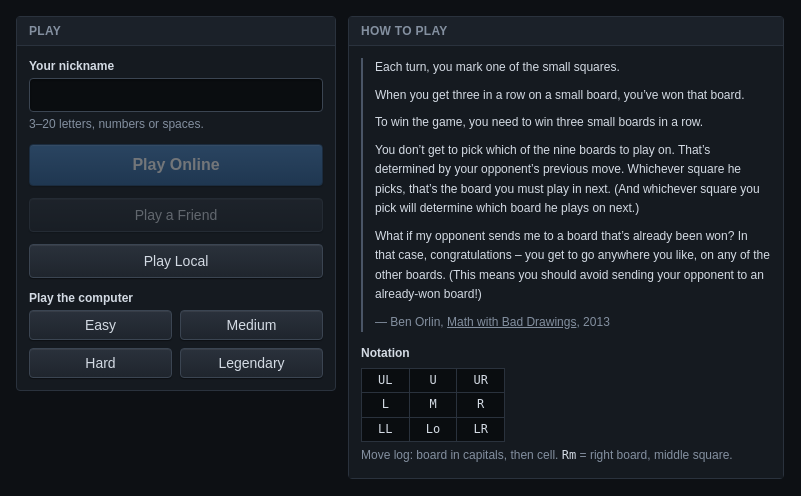
MainMenu nickname validation › blocks profanity and leetspeak variants
The image size is (801, 496).
Type "sh1t" into the field labelled "Your nickname". click: (176,95)
box: [29, 78, 323, 112]
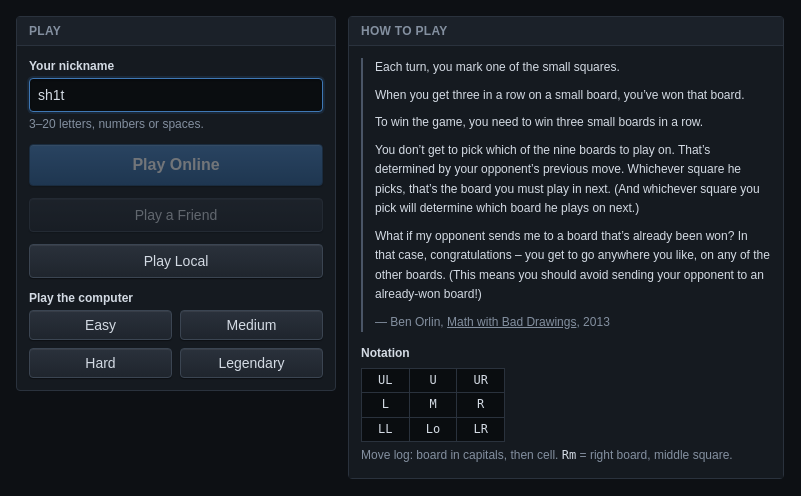
Press Tab
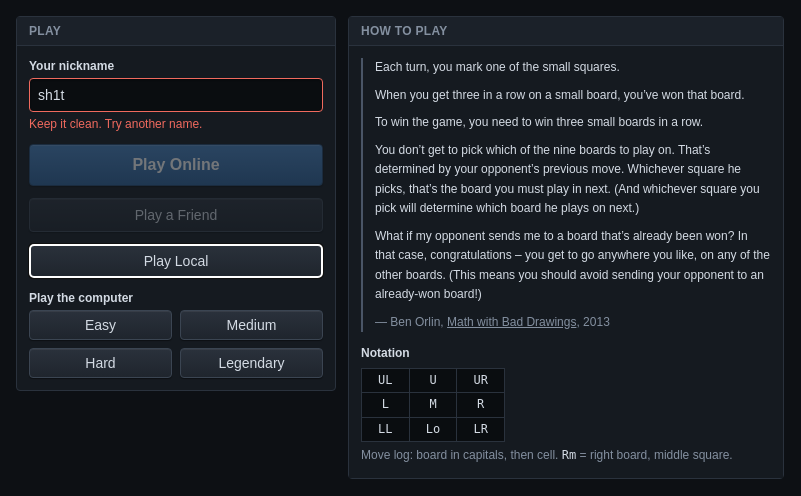
Expected: the button "Play Online" is disabled, [29, 144, 323, 186]
Expected: the text "Keep it clean. Try another name." is shown, [29, 117, 202, 131]
